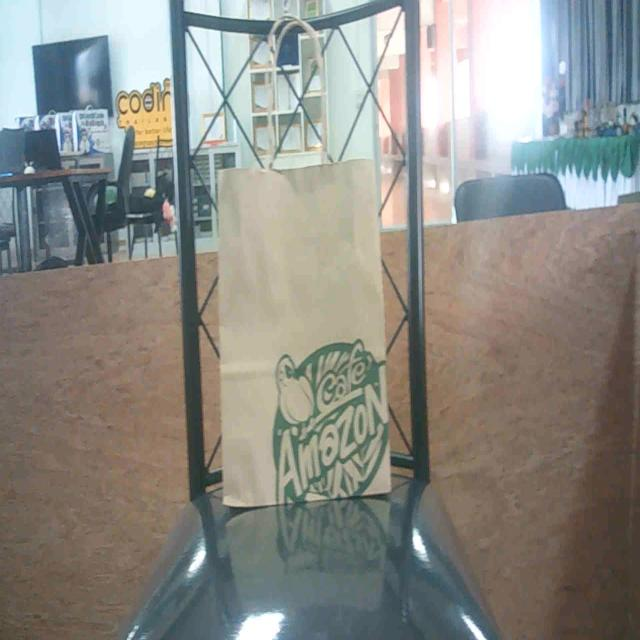bag: (211, 153, 395, 499)
